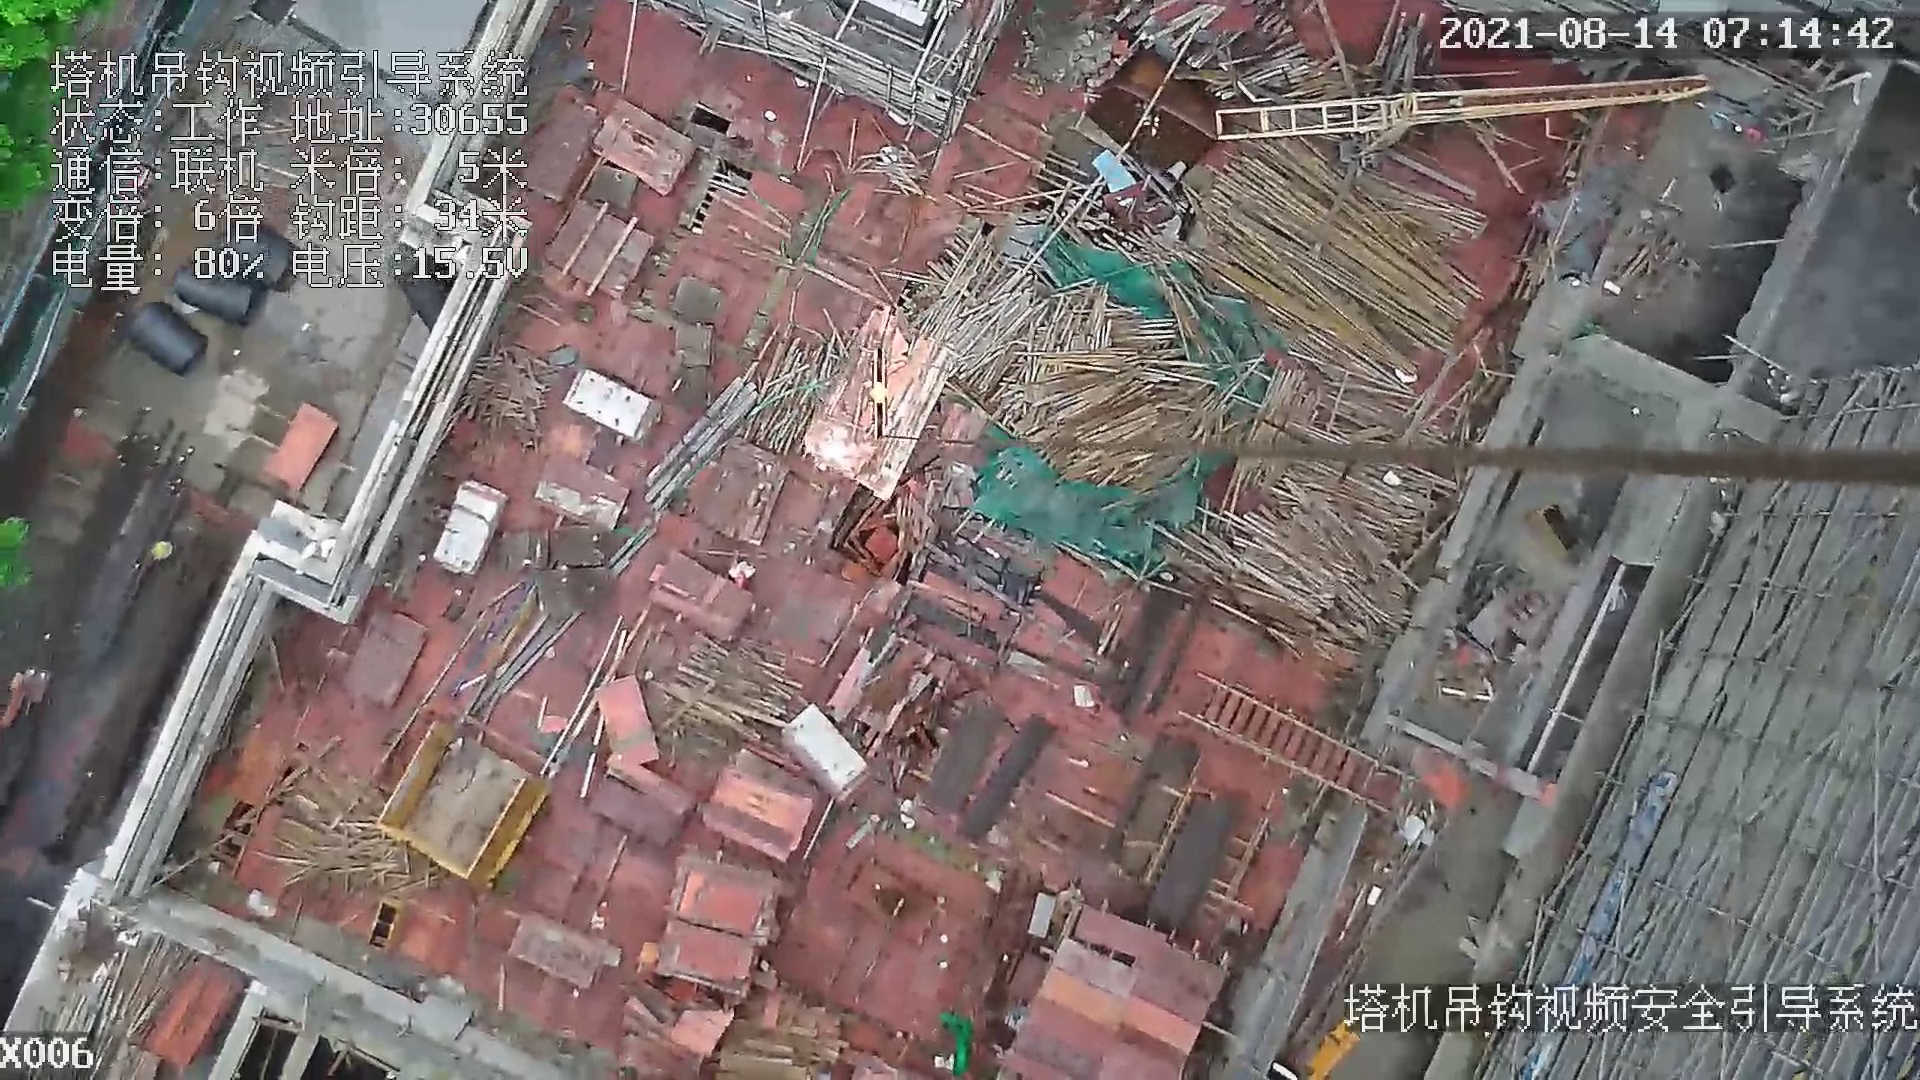hook: (864, 349, 895, 446)
